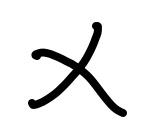mult: (29, 22, 127, 117)
